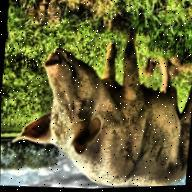boar: (7, 18, 192, 192)
